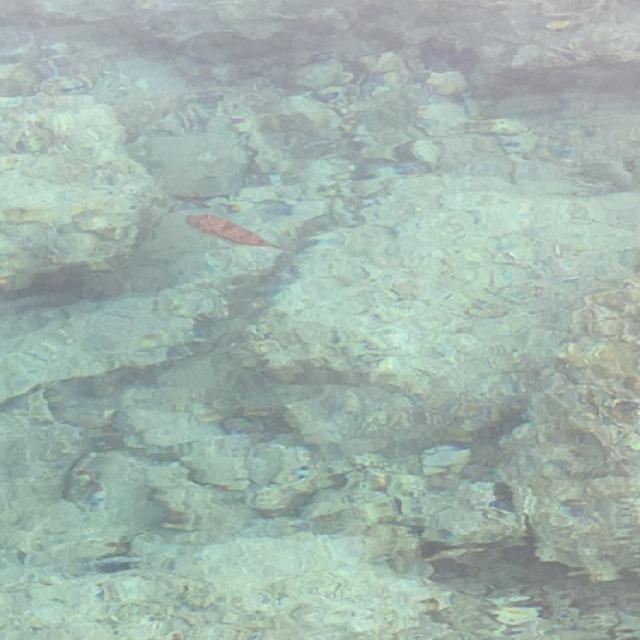Balik: (187, 214, 283, 248)
